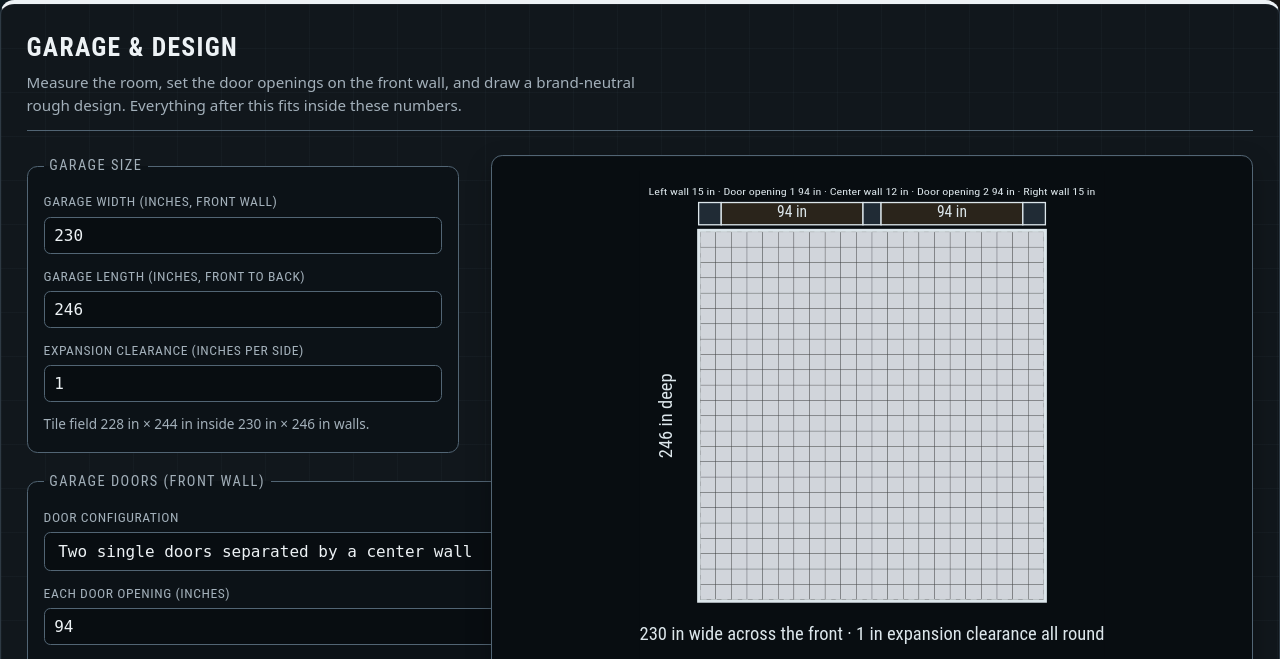
GuidedPlanner garage defaults › supports a custom run of walls and openings
The image size is (1280, 659).
Select "A custom arrangement of walls and openings" in the dropdown labelled "Door configuration": (276, 551) 44,532 -> 509,571
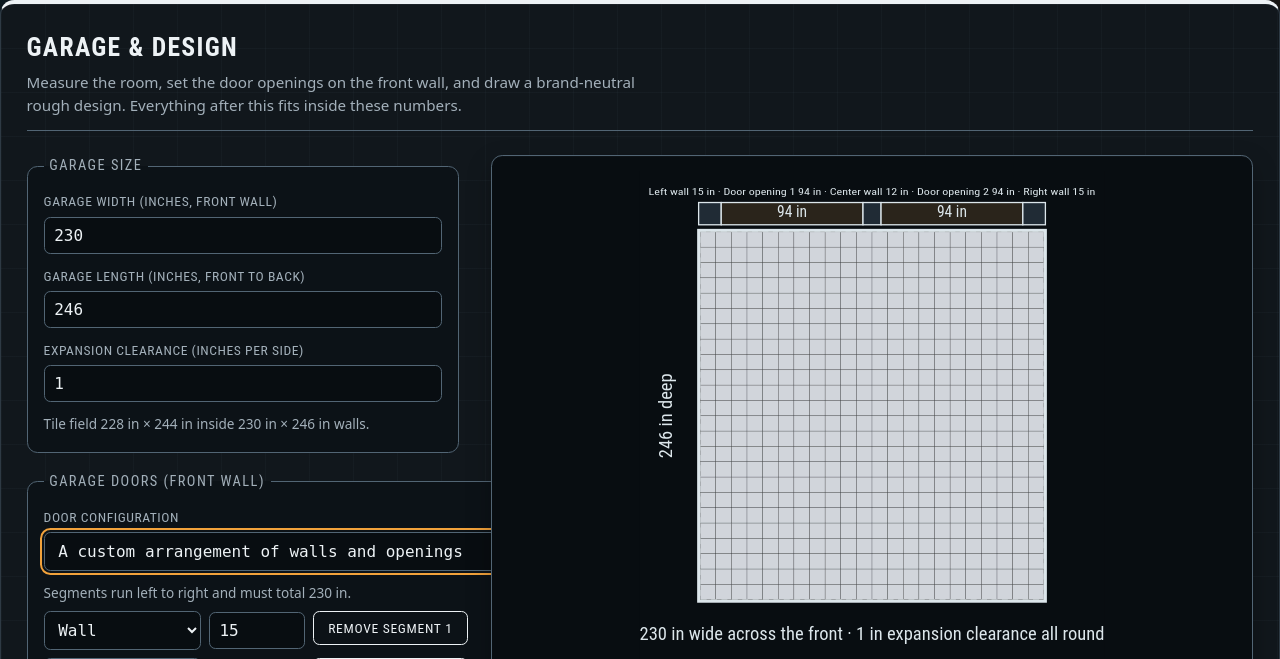
Replace the text in the field named "Segment 1 width in inches" with "20": (257, 631) 209,612 -> 305,649
(page scrolled)
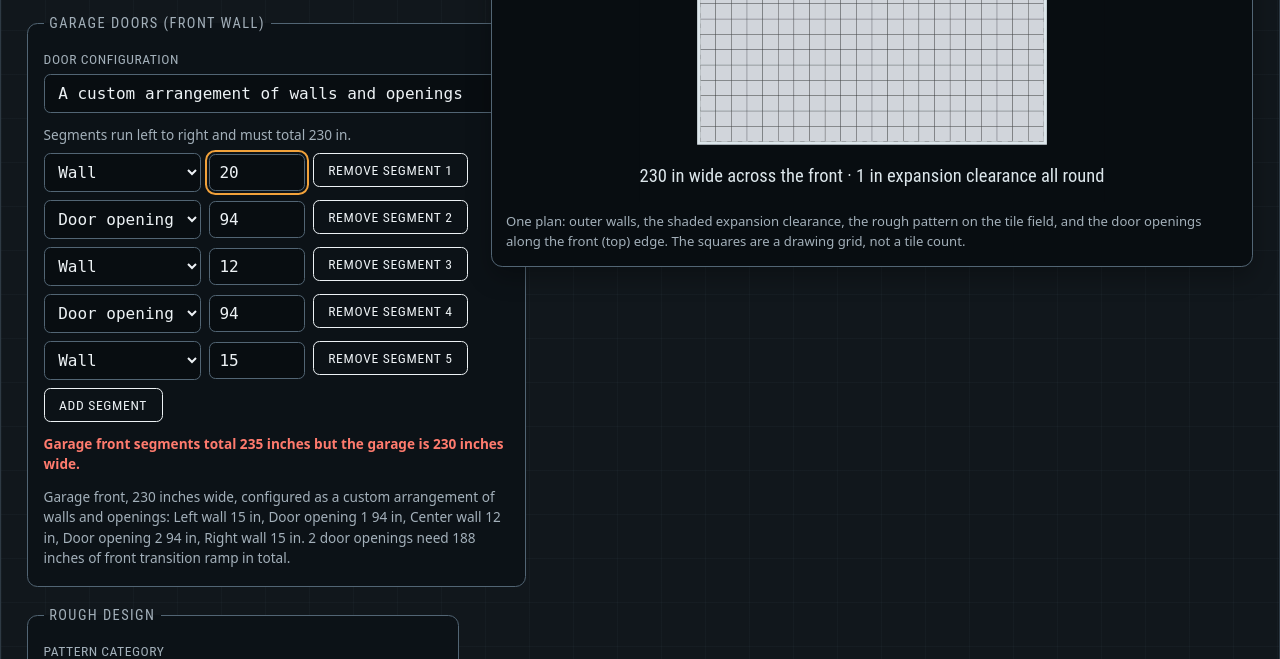
Now the message shows "total 235 inches", box 44,434 -> 504,474
Replace the text in the field named "Segment 5 width in inches" with "10": (257, 361) 209,342 -> 305,379
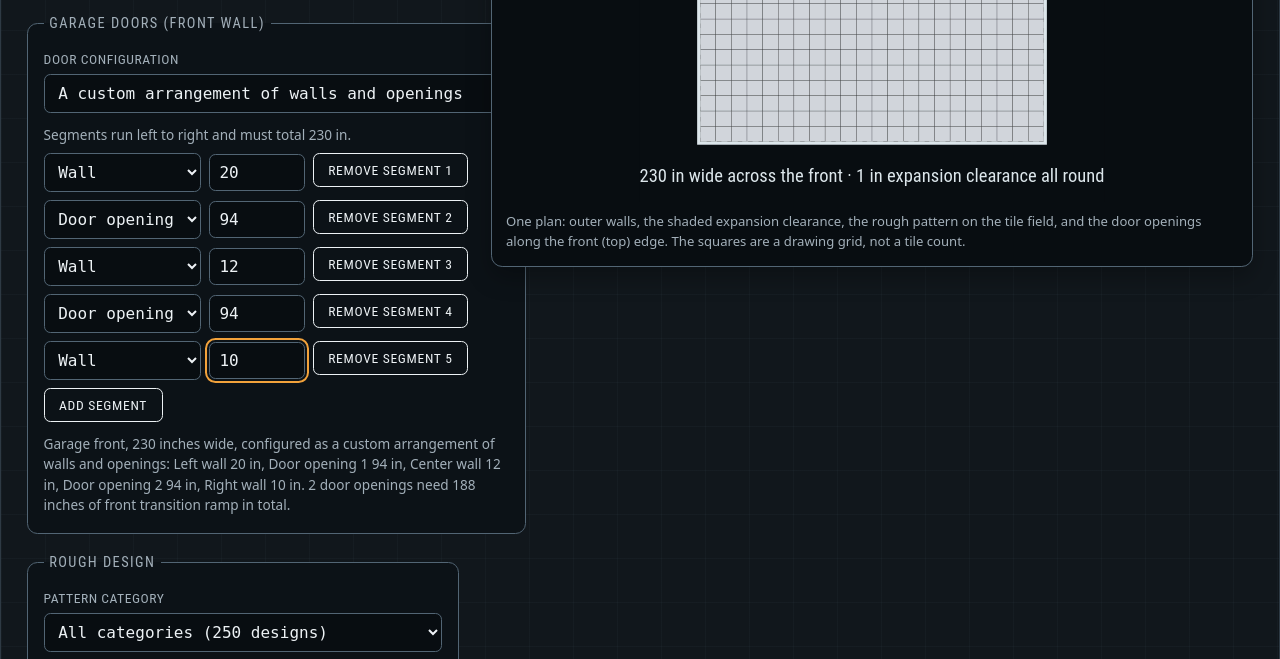
Now the message "Segment 5 must be longer than zero inches." is gone
Now the text with test id "planner-front-summary" shows "Left wall 20 in", box 44,434 -> 501,514
